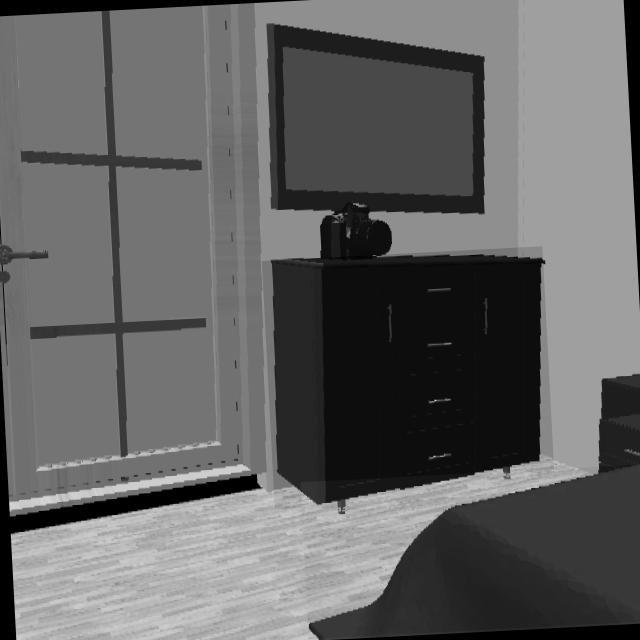bed: (308, 465, 640, 640)
cabinet: (270, 256, 543, 507)
